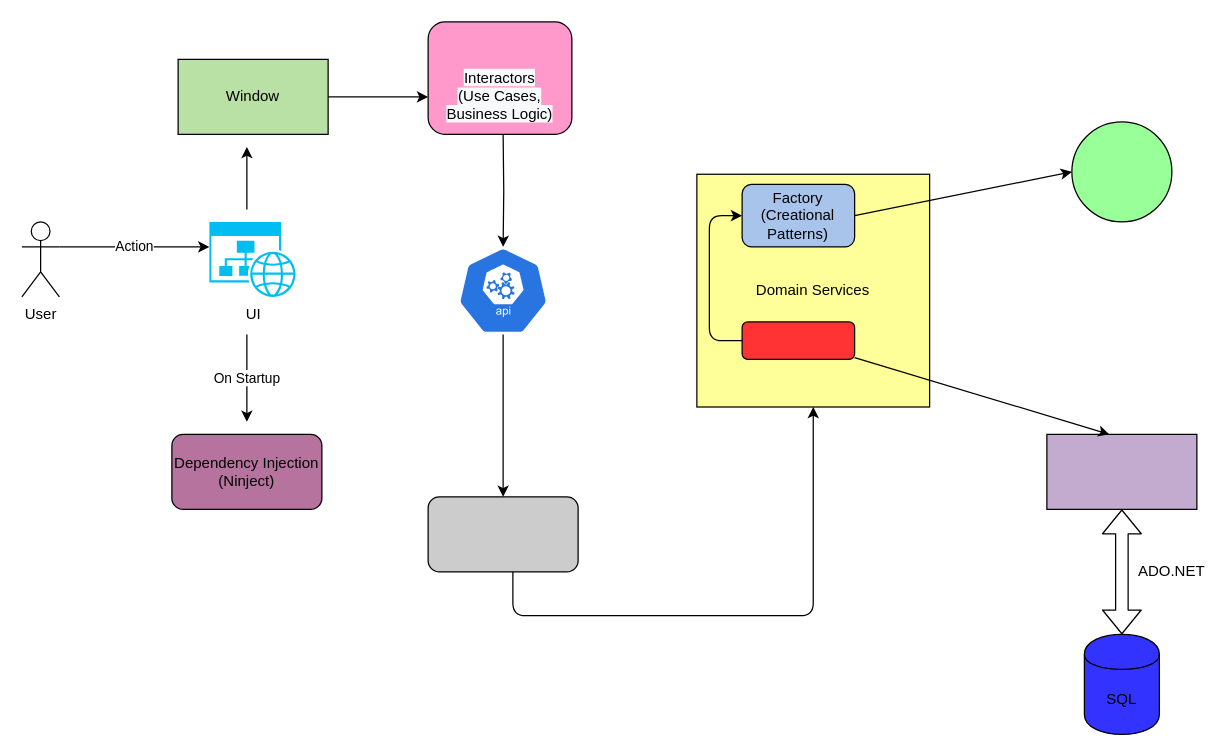
Some shapes in this 1226 by 756 pixel diagram are drawn without their labels. Here are the shapes that lost their labels. From the top down, the centre of each, then its label:
At pixel 1121 171: "Data Models".
At pixel 798 340: "Repository Layer".
At pixel 1121 471: "Repository Wrapper".
At pixel 502 534: "API Controllers".
